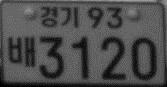0: (130, 36, 157, 80)
1: (70, 35, 94, 81)
2: (100, 36, 127, 80)
3: (39, 36, 65, 79), (106, 7, 122, 29)
9: (87, 7, 103, 29)
경기_H: (40, 6, 78, 28)
배: (8, 35, 36, 67)
